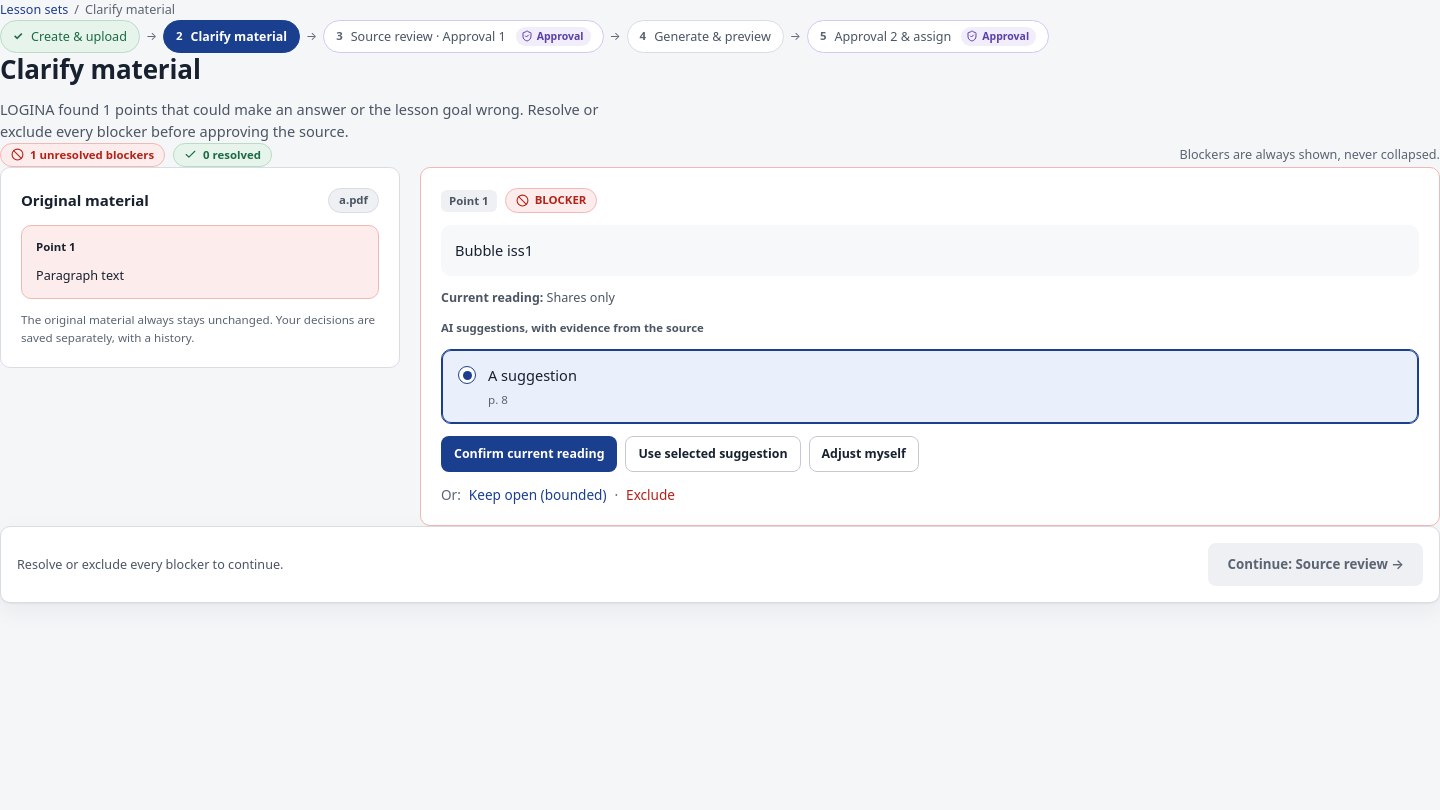
Scenario: T3 and T4 › adjust shows the change before saving, as the teacher reading
The width and height of the screenshot is (1440, 810).
Click the button "Adjust myself" at (864, 454), box [808,436,919,472]
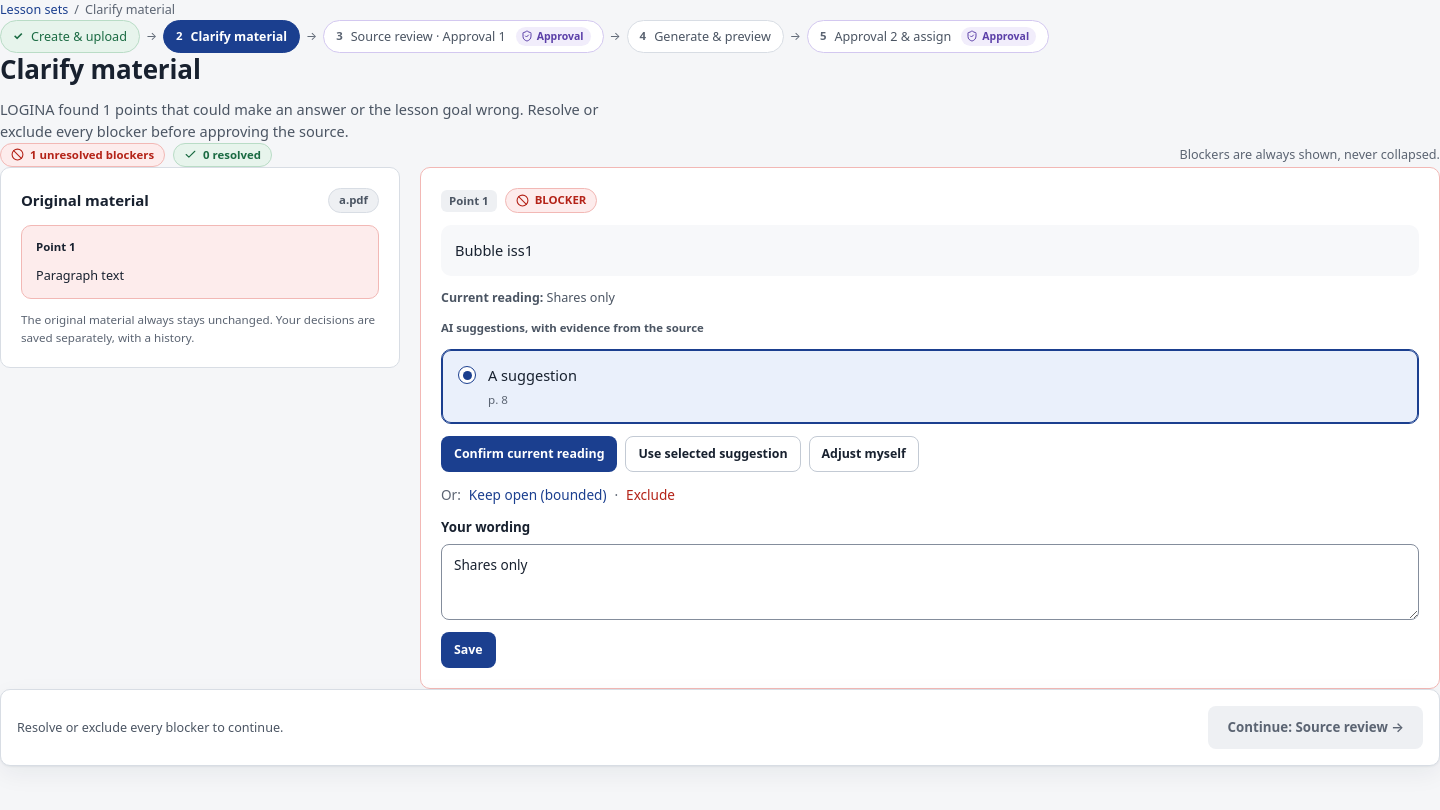
Replace the text in the text box labelled "Your wording" with "New wording" at (930, 582), box [441,544,1419,620]
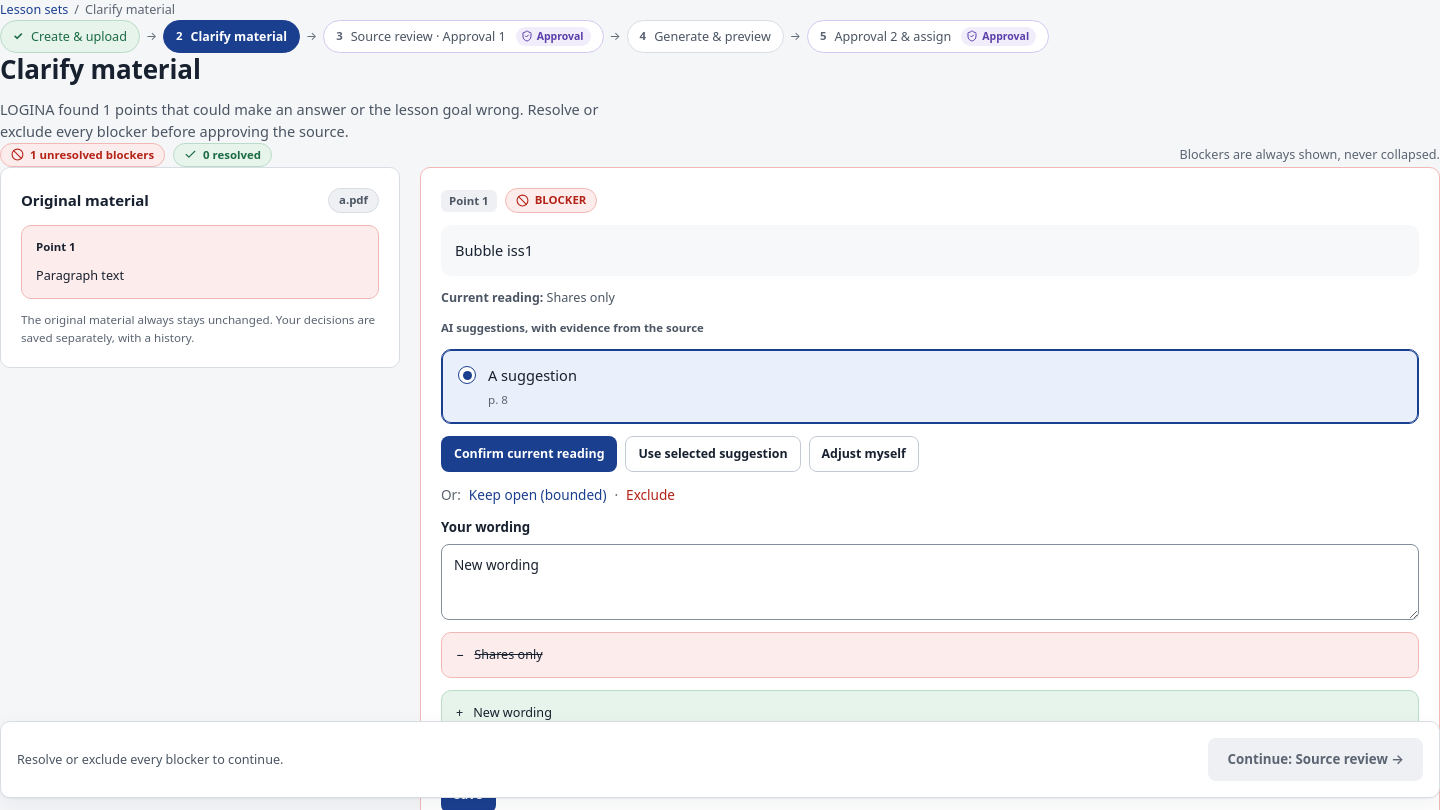
expect the text "New wording" is shown: met, box [473,703,552,722]
